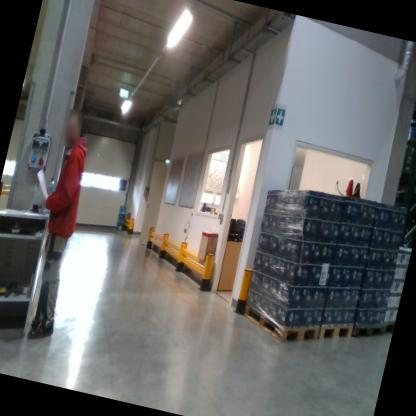pallet: (239, 302, 323, 351), (318, 315, 354, 347), (351, 316, 387, 345)
